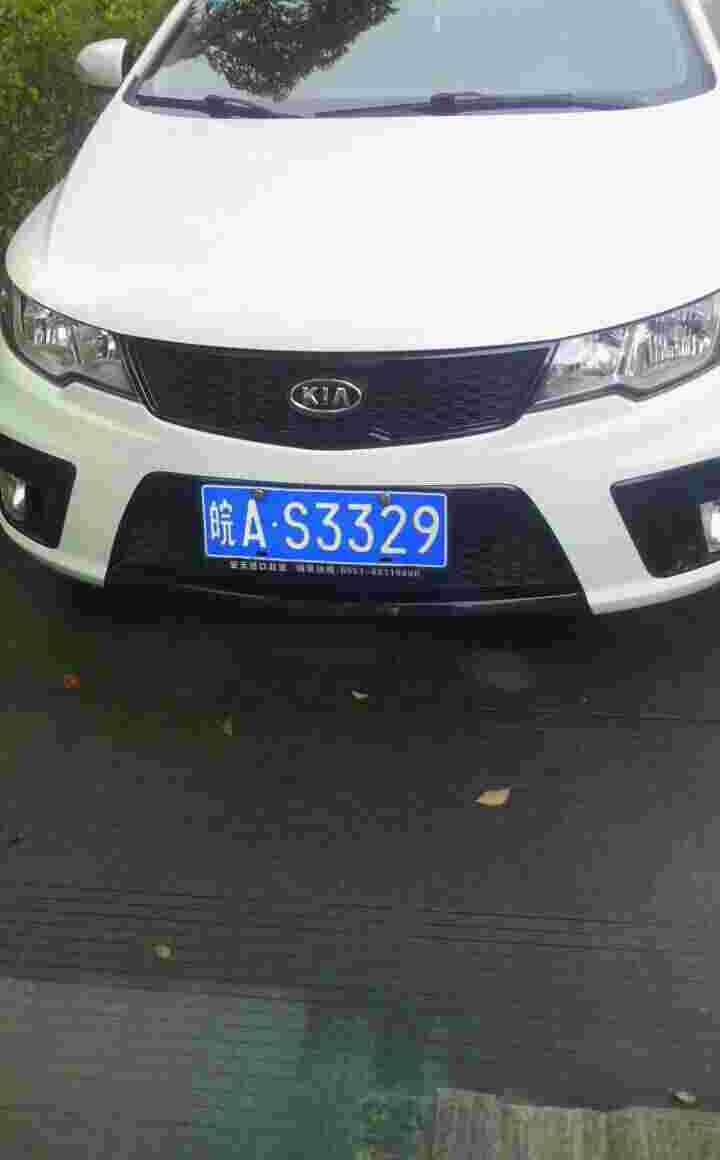plate: (202, 480, 453, 573)
